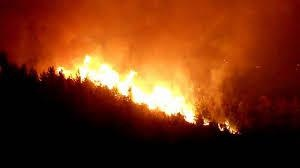fire: (56, 50, 200, 127), (217, 117, 240, 133)
